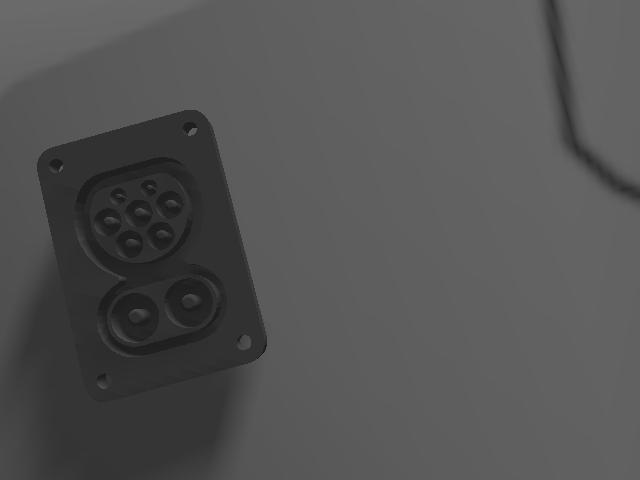EV-socket: (34, 106, 273, 408)
